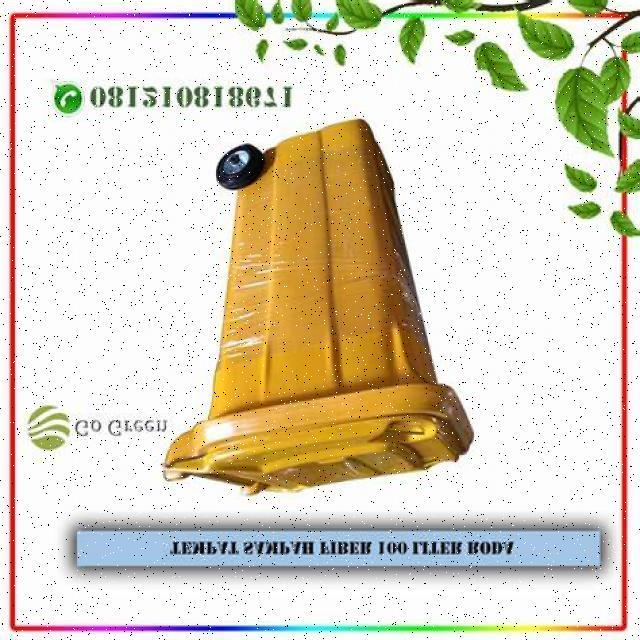garbage container: (166, 121, 475, 513)
